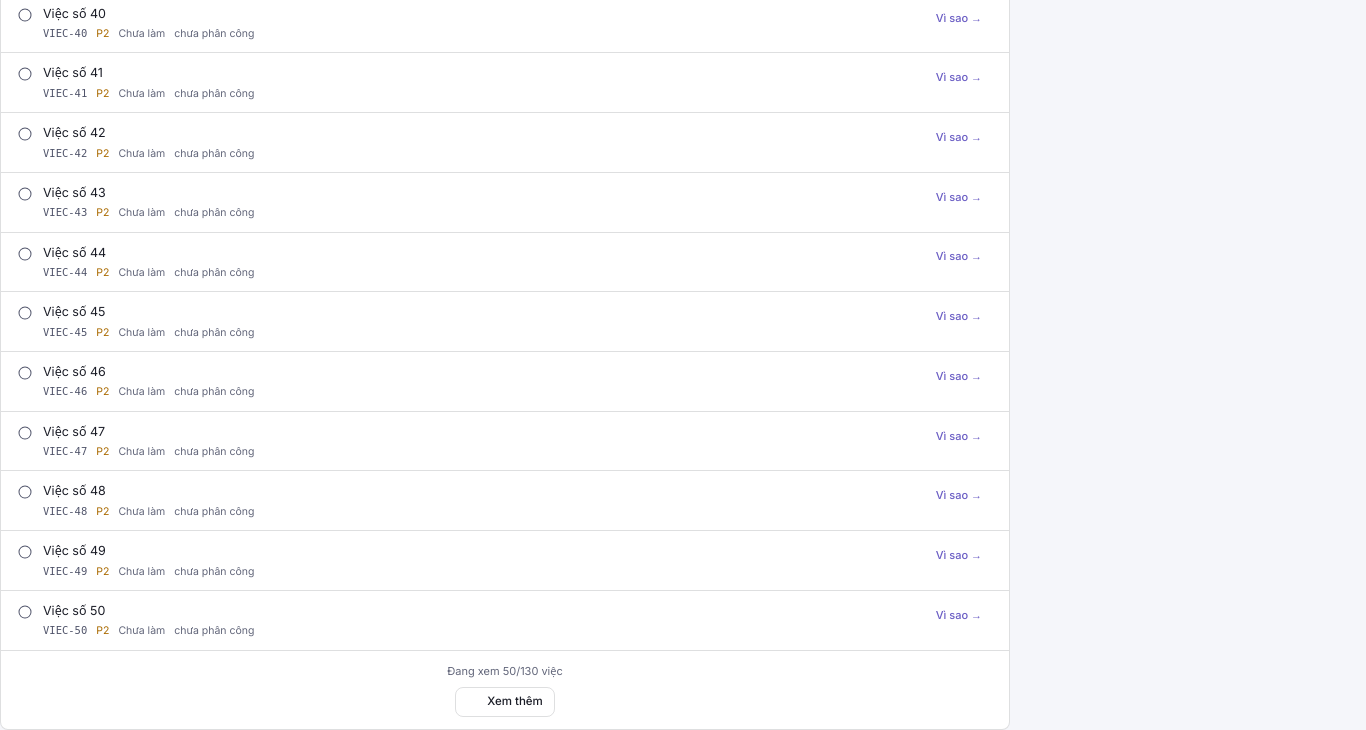
Test case: Việc & Nhắc hẹn — Xem thêm (F052) › 130 việc: 50 dòng đầu, "Đang xem 50/130 việc", Xem thêm đến hết
The width and height of the screenshot is (1366, 730).
(page scrolled)
Expected: the message with test id "tasks-xem-them-dem" reads "Đang xem 50/130 việc", [447,664,563,678]
Click the button "Xem thêm" at (505, 702), box [455,687,555,717]
(page scrolled)
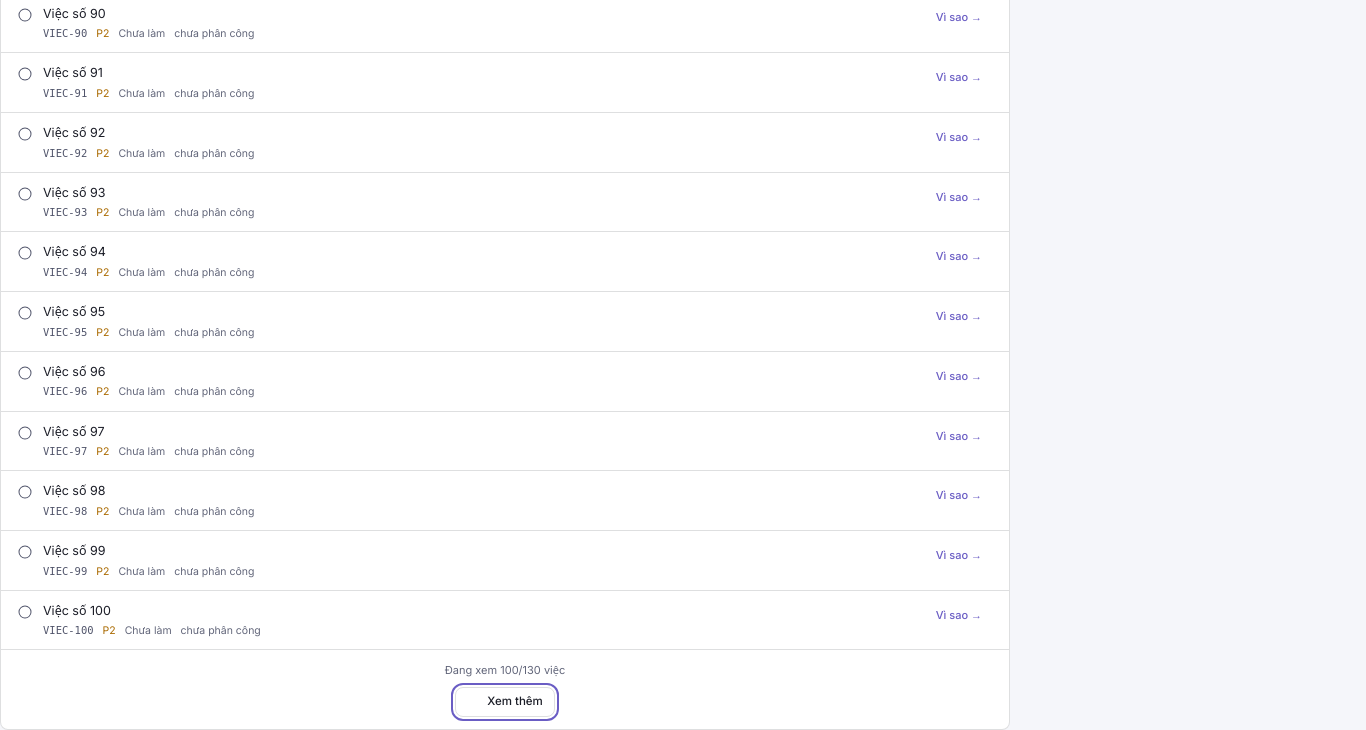
Now the message with test id "tasks-xem-them-dem" reads "Đang xem 100/130 việc", box [445,664,565,678]
Click the button "Xem thêm" at (505, 702), box [455,687,555,717]
(page scrolled)
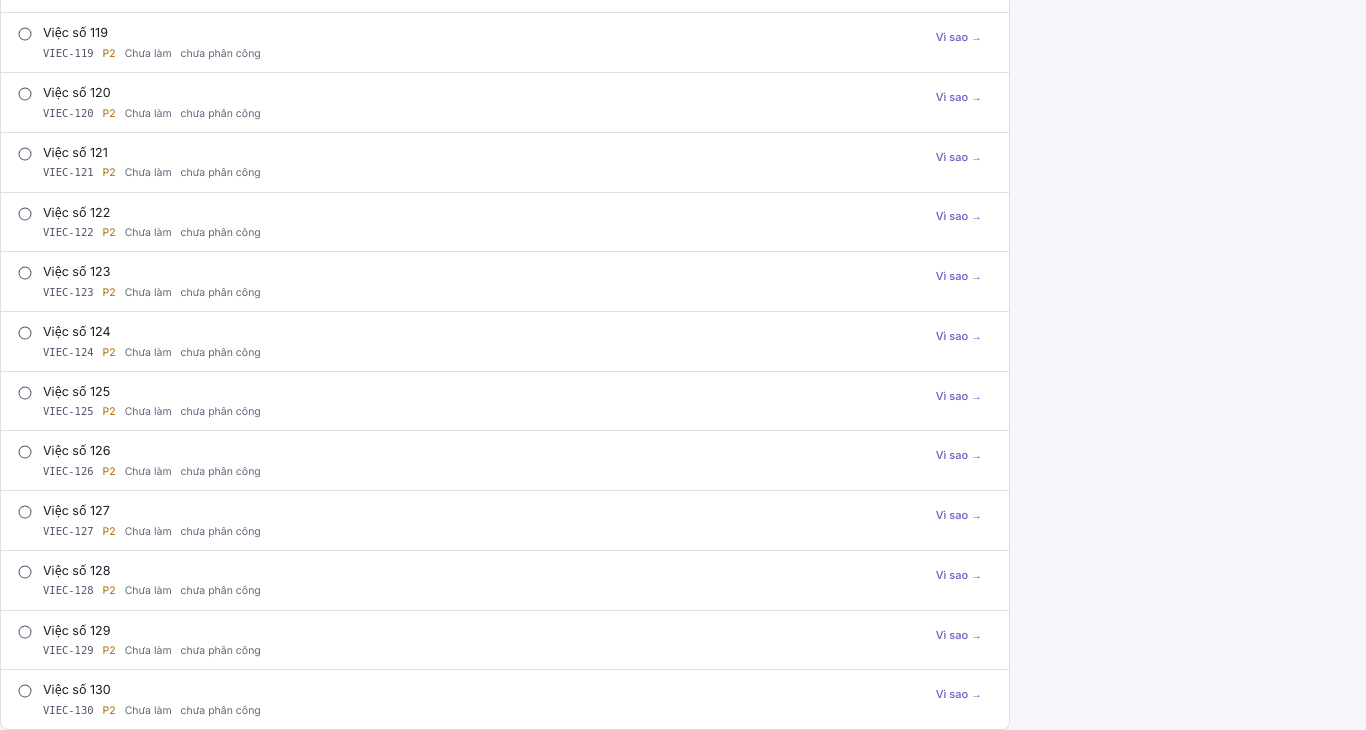
Now the text "Việc số 130" is shown, box [43,682,111,697]
Now the button "Xem thêm" is gone
